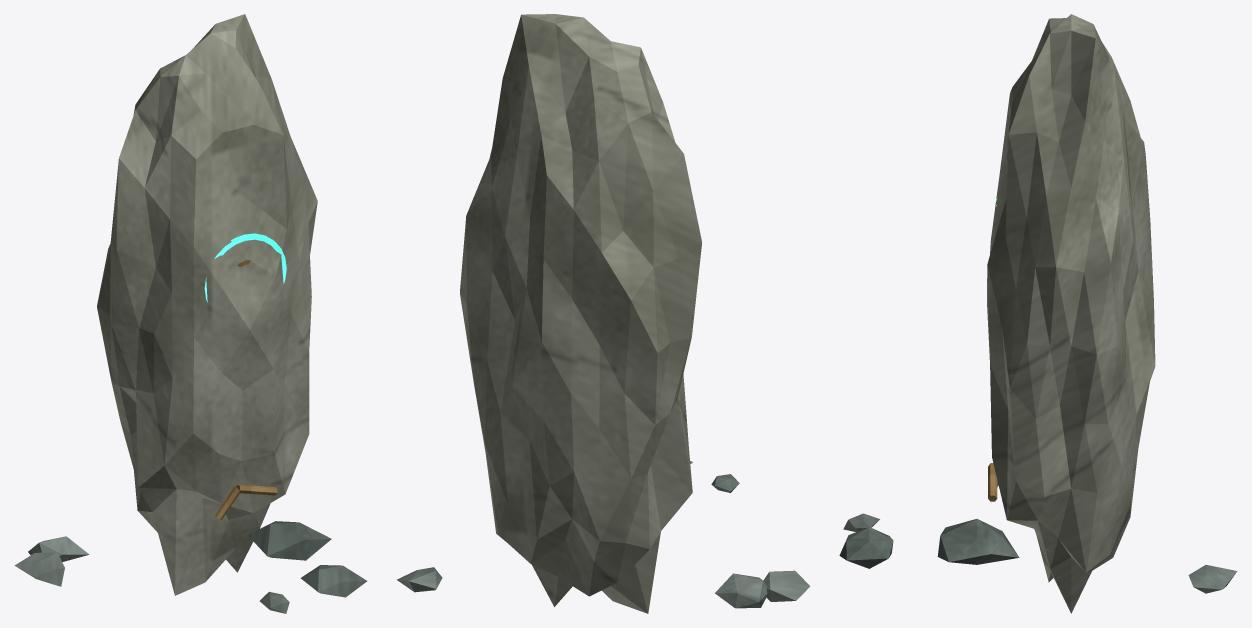
File: 0653_waystone_03.glb
3 views of the same model, side by side, from view 1: azimuth 30°, elevation 25°; view 2: azimuth 150°, elevation 25°; view 3: azimuth 270°, elevation 25° (orthographic). The views are drawn at different scales.
Parts seen in each view (by area): view 1: stone_light, stone, brass, glow; view 2: stone_light, stone; view 3: stone_light, stone.
Part boxes in pixels (x1,y1,x2,y2): stone_light: (97,14,317,595); stone: (14,521,367,613); brass: (214,260,277,519); glow: (204,233,286,302); stone_light: (460,14,701,613); stone: (397,461,810,608); stone_light: (987,14,1155,613); stone: (839,513,1237,593).
Bounding box in the file's own units: 1.59 × 2.8 × 1.72.
Materials: 4 (4 with a texture image).
